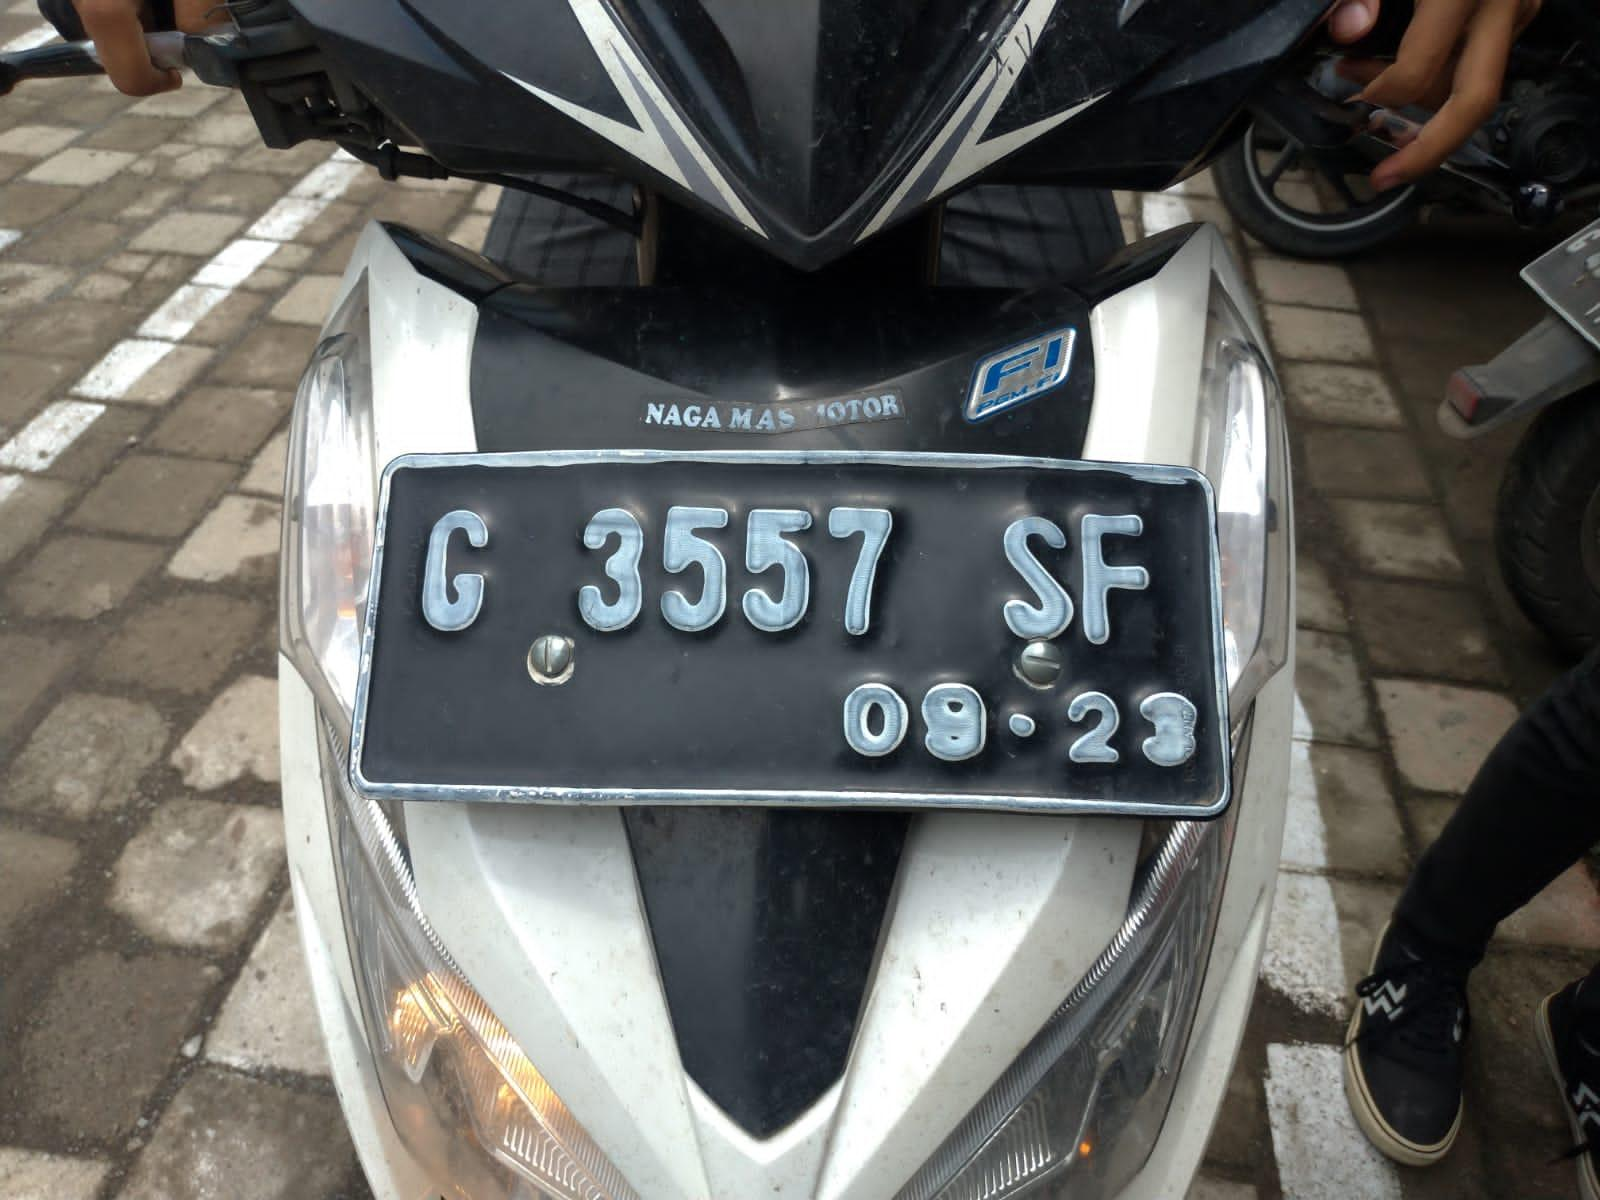plat: (353, 453, 1228, 819)
